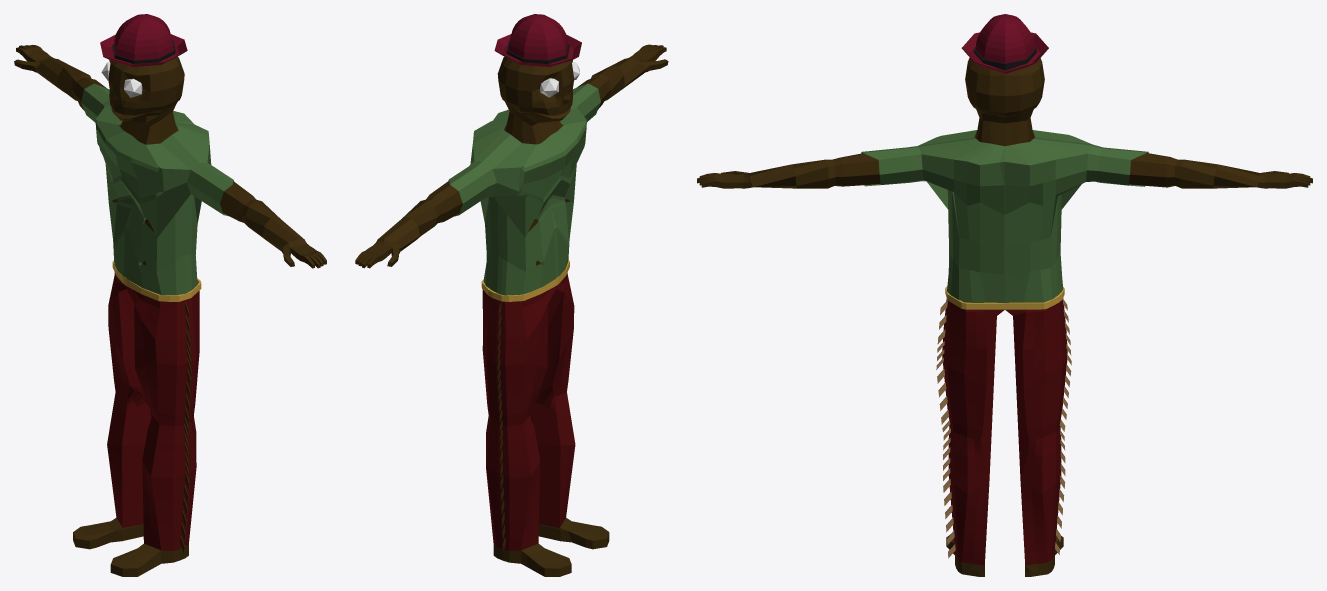
The model's file is wrog_1-ubrany.fbx.
3 views of the same model, side by side, from view 1: azimuth 30°, elevation 25°; view 2: azimuth 150°, elevation 25°; view 3: azimuth 270°, elevation 25° (orthographic). The views are drawn at different scales.
Visible parts, largest first — view 1: Cube; view 2: Cube; view 3: Cube.
Part boxes in pixels (box(x1,y1,x2,y2)): Cube: box(14, 14, 326, 576); Cube: box(355, 14, 668, 576); Cube: box(697, 14, 1312, 576).
Size of the model in its own units: 2.58 by 12.7 by 12.96.
